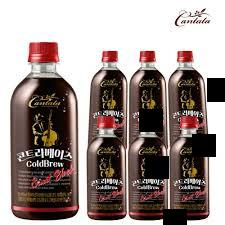contrabass_sweetblack: (10, 41, 79, 222), (84, 112, 129, 221), (169, 111, 212, 218), (128, 112, 169, 222)
